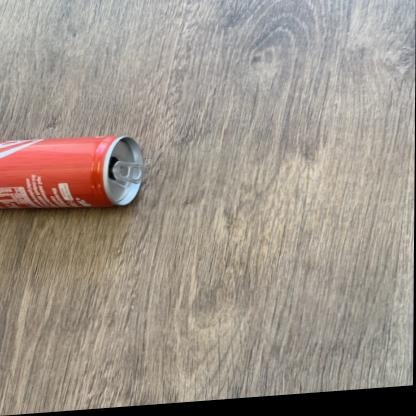trash: (0, 136, 143, 207)
